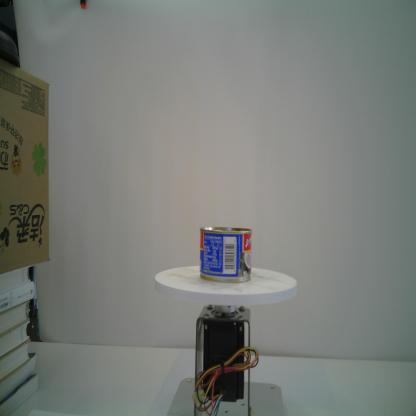Canned Food: (197, 224, 253, 286)
